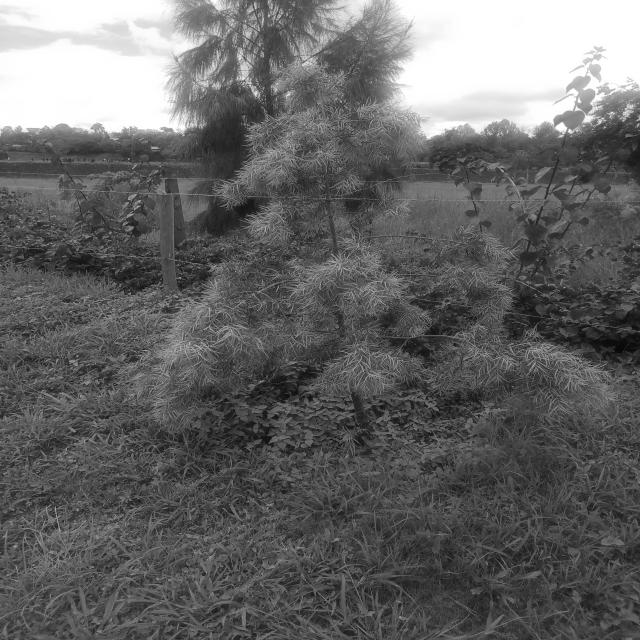Podocarpus falcatus: (128, 66, 620, 449)
